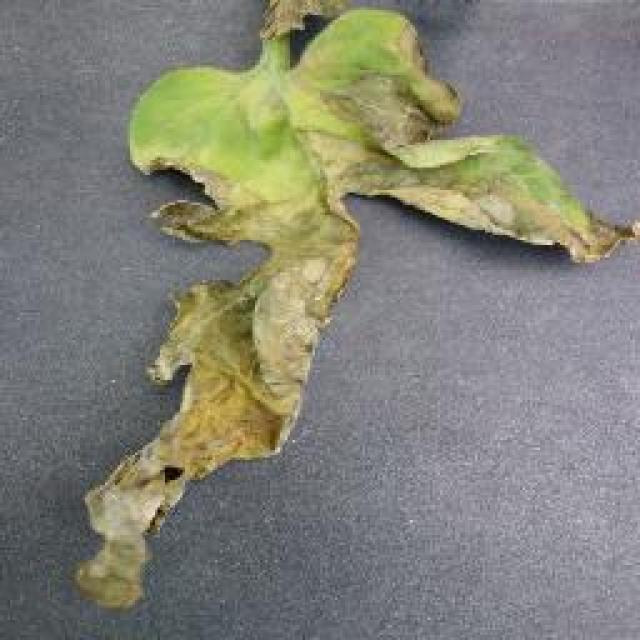Tomato Late Blight: (96, 150, 596, 610)
